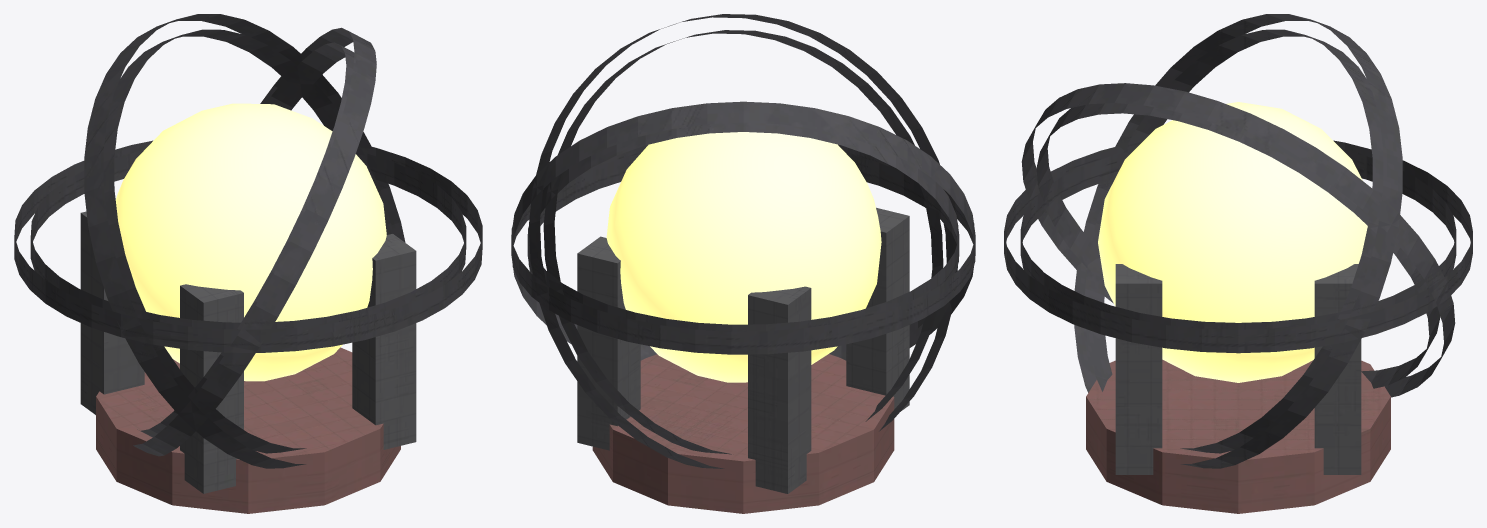
Rendered from generator.glb.
3 views of the same model, side by side, from view 1: azimuth 30°, elevation 25°; view 2: azimuth 150°, elevation 25°; view 3: azimuth 270°, elevation 25° (orthographic).
Parts seen in each view (by area): view 1: Gen_Ring, Gen_Base, Gen_Core; view 2: Gen_Ring, Gen_Base, Gen_Core; view 3: Gen_Ring, Gen_Core, Gen_Base.
Boxes of the visible parts, left/top/right/bottom form: Gen_Ring: left=14, top=14, right=482, bottom=468; Gen_Base: left=80, top=211, right=416, bottom=513; Gen_Core: left=115, top=103, right=386, bottom=381; Gen_Ring: left=511, top=14, right=975, bottom=468; Gen_Base: left=577, top=207, right=909, bottom=513; Gen_Core: left=606, top=132, right=881, bottom=382; Gen_Ring: left=1004, top=14, right=1472, bottom=468; Gen_Core: left=1098, top=102, right=1367, bottom=382; Gen_Base: left=1086, top=264, right=1390, bottom=513.
Size of the model in its own units: 40 by 37.37 by 40.
Materials: 3 (2 with a texture image).
